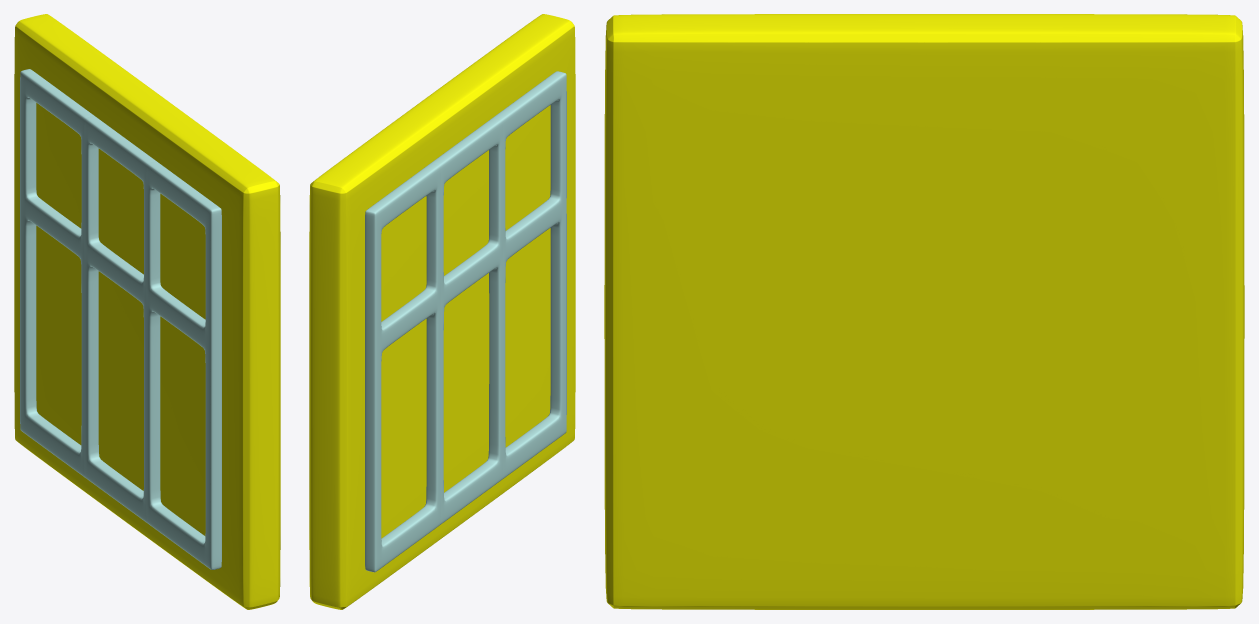
3 views of the same model, side by side, from view 1: azimuth 30°, elevation 25°; view 2: azimuth 150°, elevation 25°; view 3: azimuth 270°, elevation 25° (orthographic). The views are drawn at different scales.
Visible parts, largest first — view 1: polySurface143804; view 2: polySurface143804; view 3: polySurface143804.
Boxes of the visible parts, x1,y1,x2,y2 form: polySurface143804: (14,14,280,609); polySurface143804: (309,14,575,609); polySurface143804: (604,14,1244,609).
Bounding box in the file's own units: 0.1253 × 0.9995 × 0.9995.
